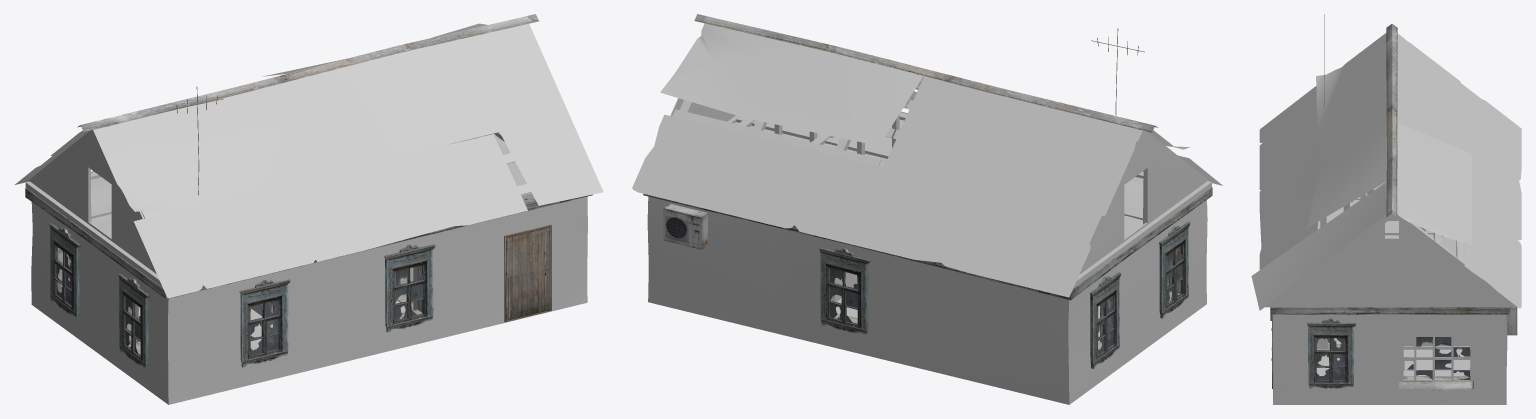
The model's file is Houses_Ready_06.FBX.
The picture shows the model from 3 angles, left to right: view 1: azimuth 30°, elevation 25°; view 2: azimuth 150°, elevation 25°; view 3: azimuth 270°, elevation 25°; orthographic projection. The views are drawn at different scales.
Parts seen in each view (by area): view 1: Roof_04, Corps_01_6, Attic_01, Windows_08 (×2), Windows_08_2 (×2), Peak_01, Door_05, Door_05_Frame; view 2: Roof_04, Corps_01_6, Attic_01, Windows_08 (×2), Peak_01, Windows_08_2, Air_02; view 3: Roof_04, Corps_01_6, Attic_01, Peak_01, Windows_08_2, Windows_Big_03, Outflow_Big_01, Air_02.
Part boxes in pixels (x1,y1,x2,y2): Roof_04: (15, 23, 603, 298); Corps_01_6: (25, 171, 592, 404); Attic_01: (25, 130, 533, 287); Windows_08 (×2): (118, 244, 435, 368); Windows_08_2 (×2): (49, 223, 290, 367); Peak_01: (77, 14, 538, 131); Door_05: (506, 227, 549, 320); Door_05_Frame: (504, 224, 551, 322); Roof_04: (632, 23, 1222, 297); Corps_01_6: (643, 111, 1212, 404); Attic_01: (670, 80, 1211, 288); Windows_08 (×2): (819, 222, 1190, 334); Peak_01: (694, 14, 1157, 132); Windows_08_2: (1089, 272, 1121, 368); Air_02: (663, 203, 708, 249); Roof_04: (1251, 33, 1521, 310); Corps_01_6: (1270, 307, 1510, 404); Attic_01: (1265, 123, 1517, 307); Peak_01: (1386, 24, 1397, 217); Windows_08_2: (1306, 318, 1356, 388); Windows_Big_03: (1402, 336, 1470, 380); Outflow_Big_01: (1398, 380, 1473, 390); Air_02: (1506, 307, 1517, 335).
Bounding box in the file's own units: 1262 × 759 × 747.
